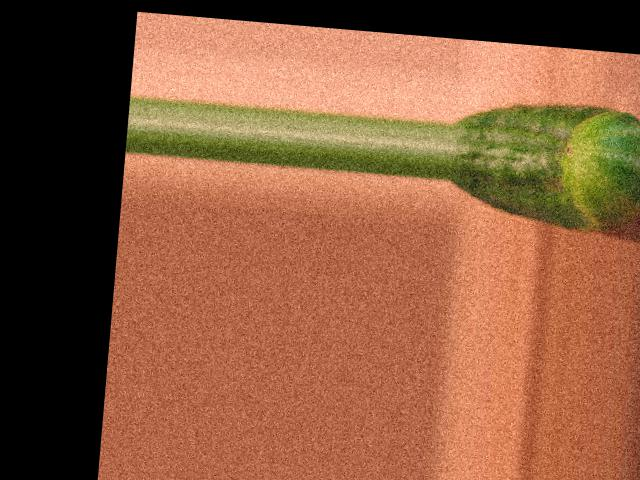cucumber: (446, 93, 640, 236)
